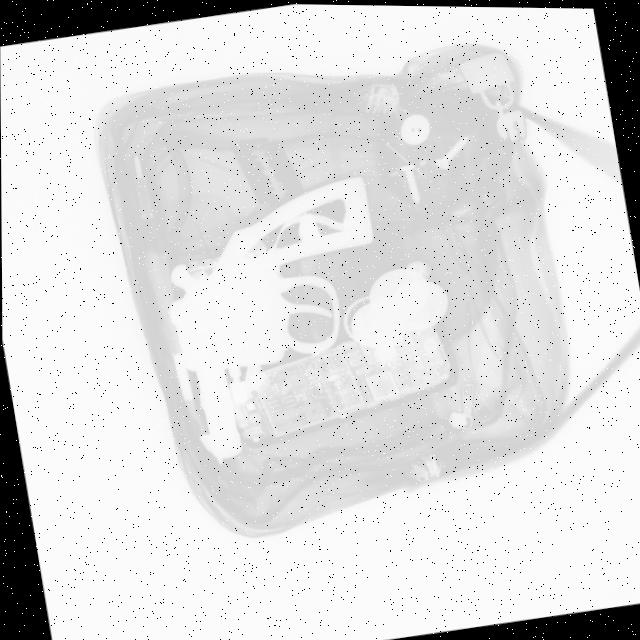pistol: (148, 171, 406, 465)
